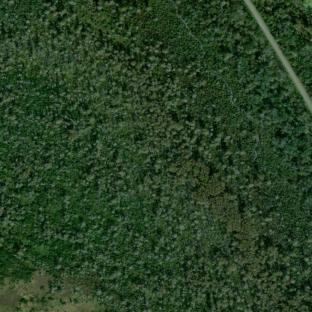Floresta: (0, 0, 312, 312), (251, 0, 312, 99)
